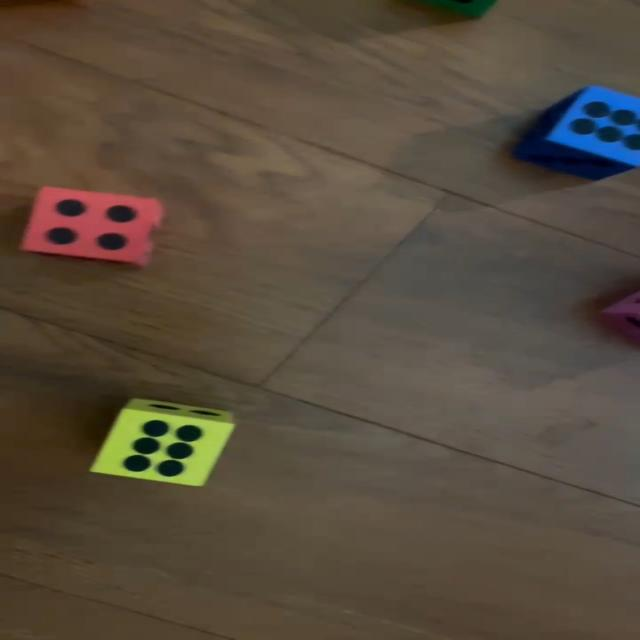blue_block: (518, 86, 640, 180)
red_block: (25, 187, 166, 265)
